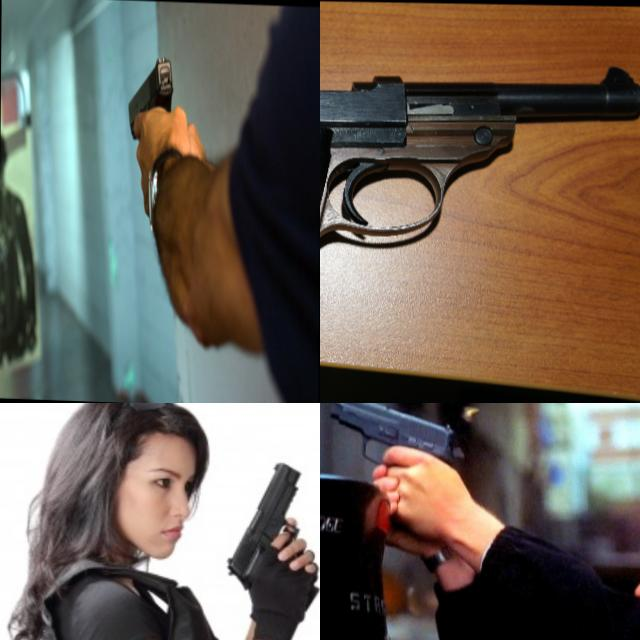handgun: (320, 49, 640, 403), (222, 457, 320, 625), (323, 403, 468, 488), (125, 50, 177, 156)
